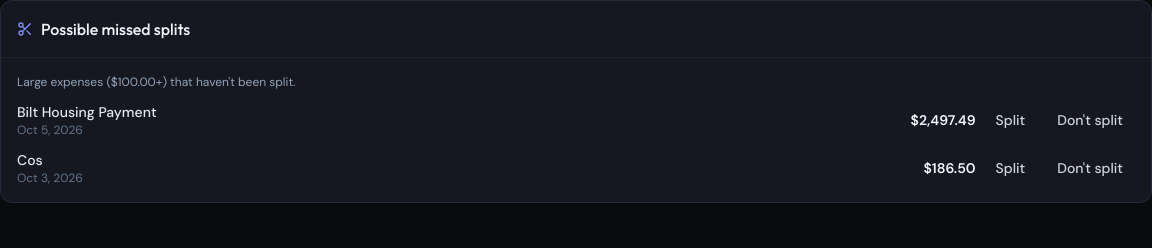
it: LargeUnsplitTransactions › tells the user when the change could not be saved, instead of doing nothing
Click the button with aria-label "Don't split Bilt Housing Payment" at [1090, 120], box [1045,102,1135,138]
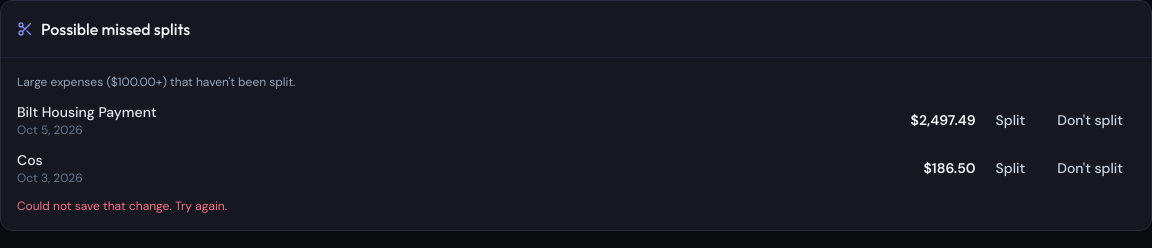
Expected: the message shows "Could not save", [17,198,227,214]
